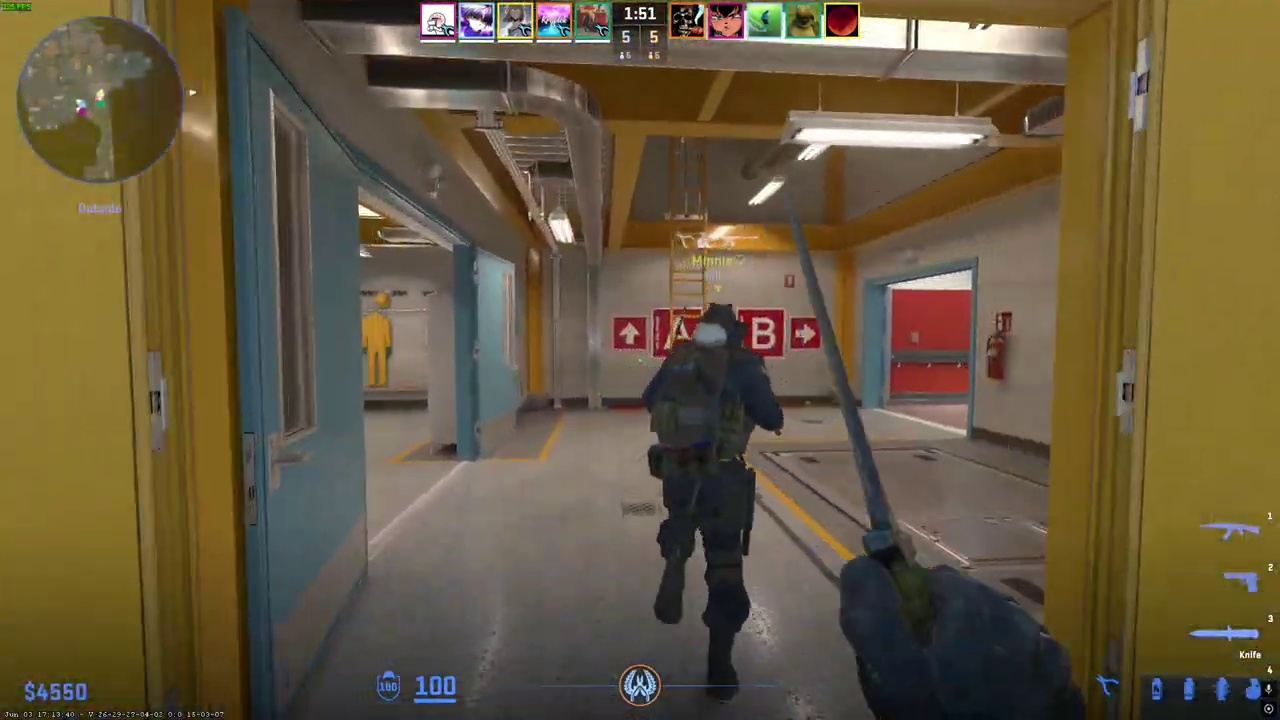CT: (643, 303, 778, 689)
